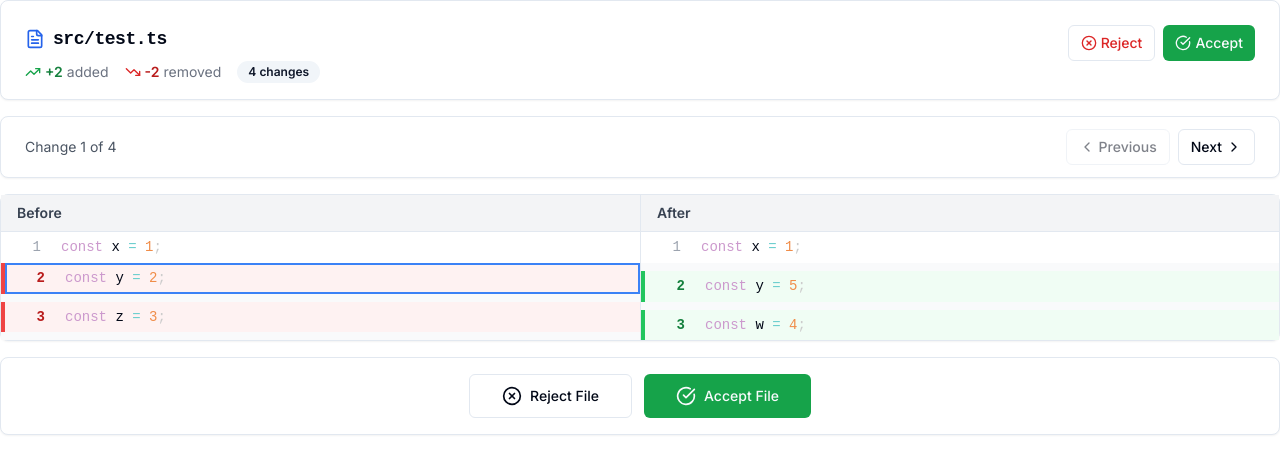
DiffViewer › navigates between changes using Previous/Next buttons
This screenshot has width=1280, height=452.
expect the text "Change 1 of 4" is shown: met, box [25,137,116,157]
# Click Next
Click the button "Next".
click(1216, 147)  # box [1178,129,1255,165]
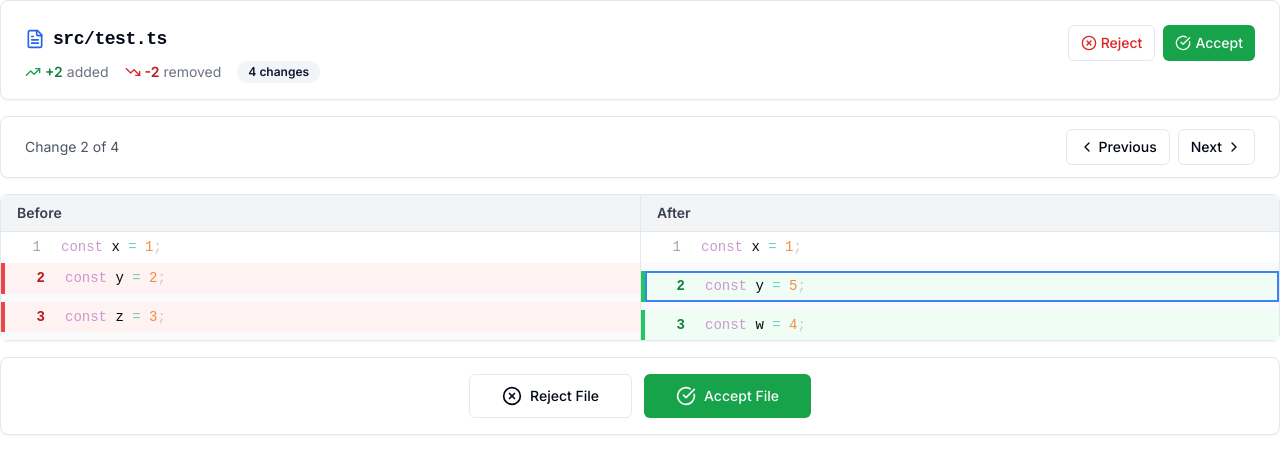
expect the text "Change 2 of 4" is shown: met, box [25,137,119,157]
# Click Previous
Click the button "Previous".
click(1118, 147)  # box [1066,129,1170,165]
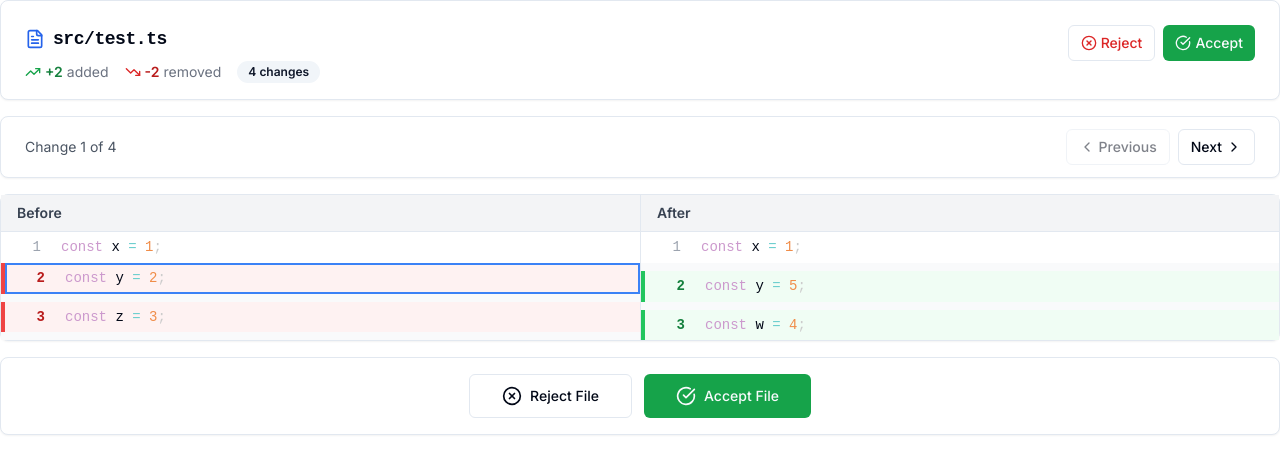
expect the text "Change 1 of 4" is shown: met, box [25,137,116,157]
